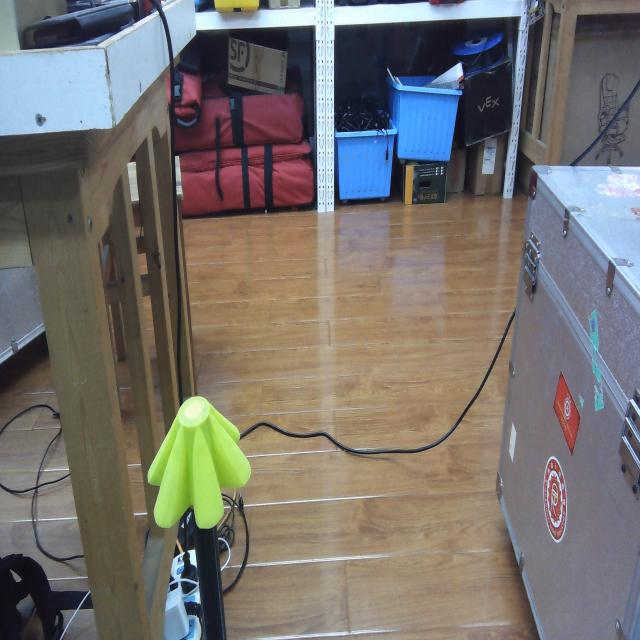Yellow-Stake-Head: (148, 396, 251, 529)
